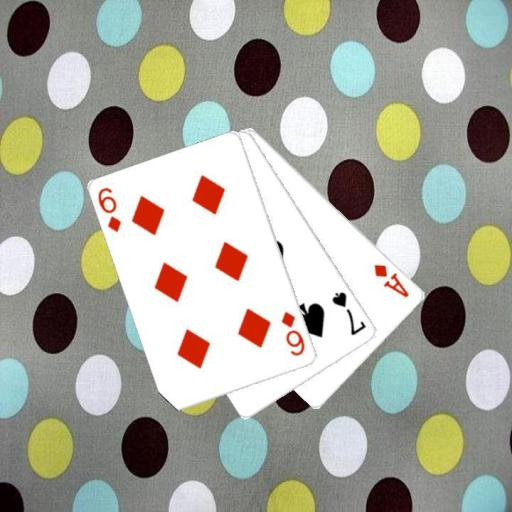6D: (278, 309, 307, 358), (95, 184, 123, 234)
7S: (329, 289, 369, 337)
AD: (371, 261, 411, 299)
